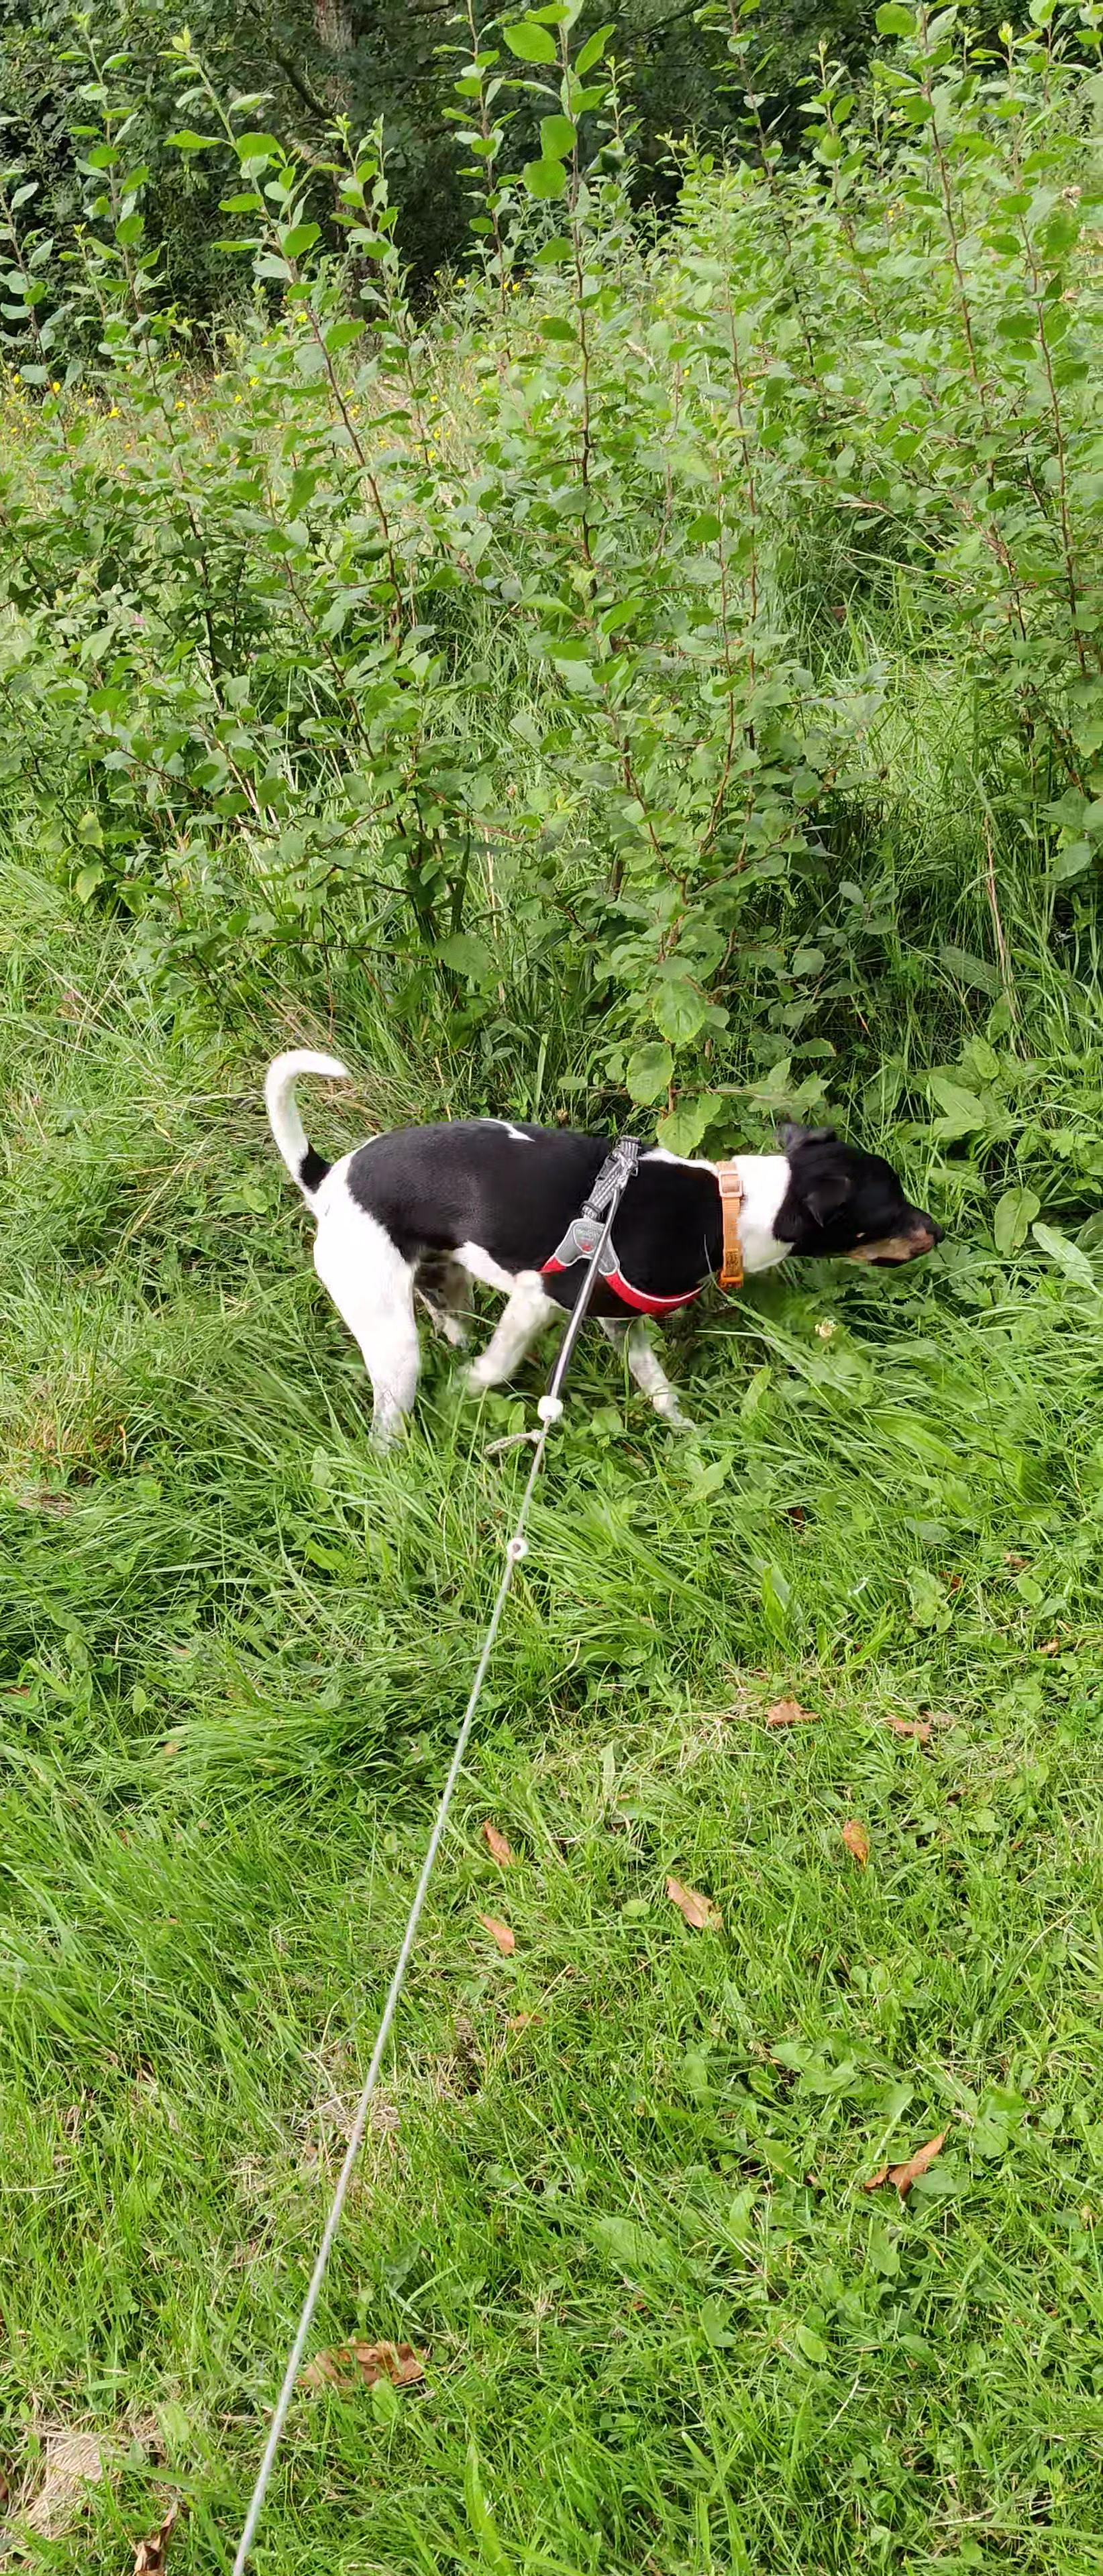Dog: (260, 1043, 950, 1451)
